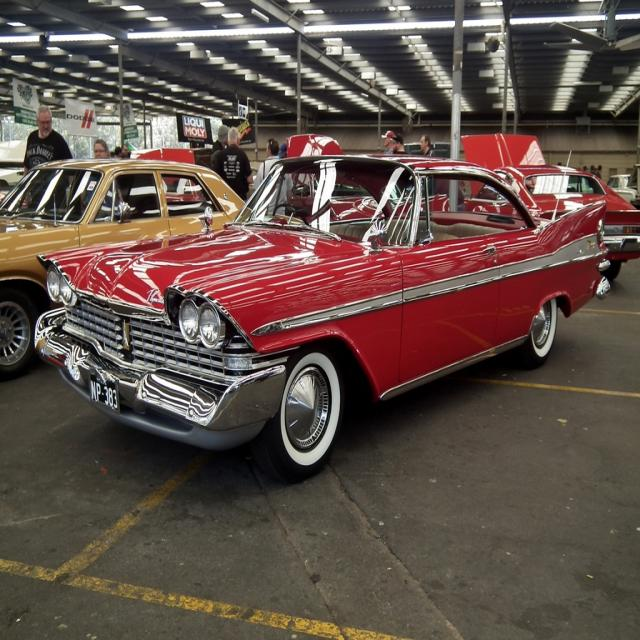car: (13, 141, 603, 486), (0, 157, 250, 372), (449, 133, 639, 279)
